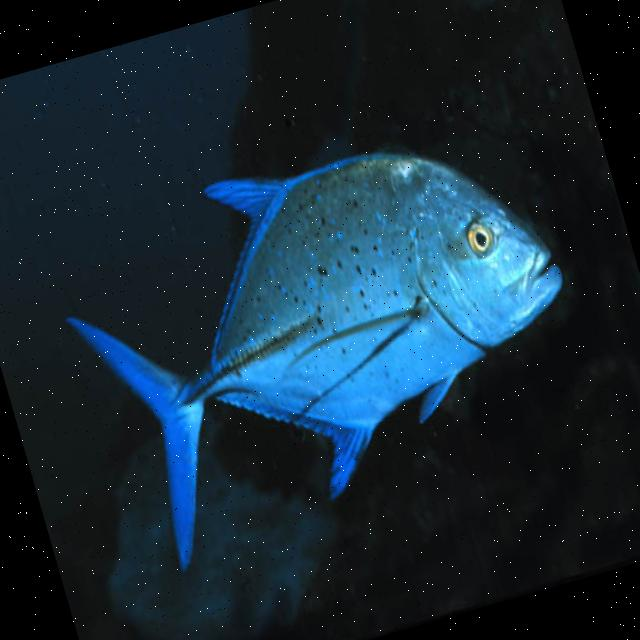ikan: (38, 91, 614, 584)
